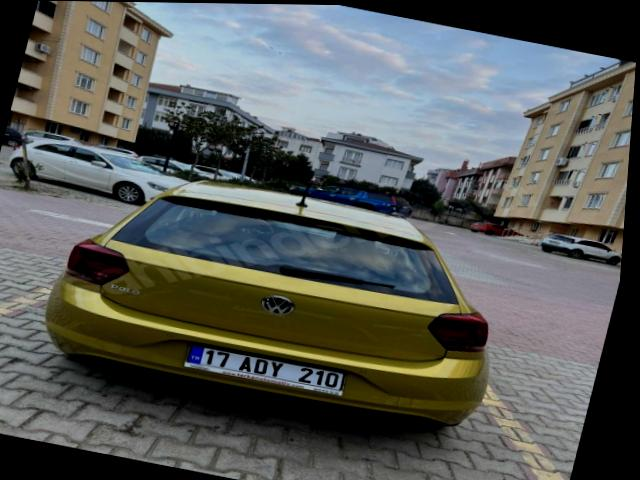plaka: (183, 344, 343, 395)
